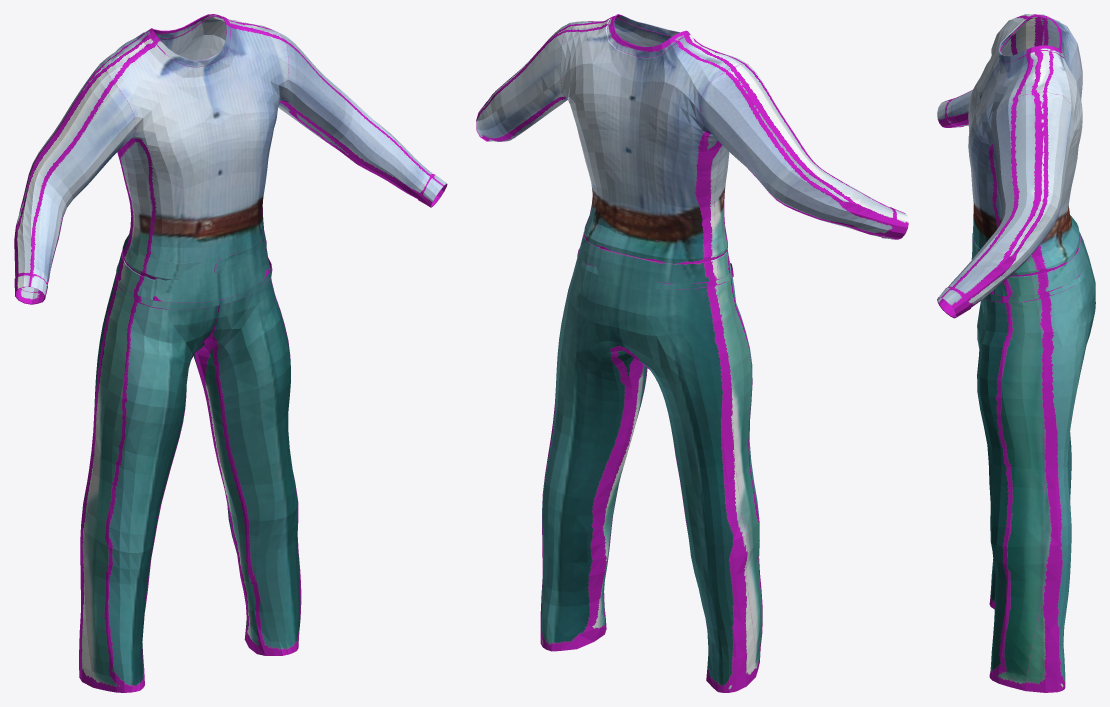
3 views of the same model, side by side, from view 1: azimuth 30°, elevation 25°; view 2: azimuth 150°, elevation 25°; view 3: azimuth 270°, elevation 25° (orthographic). The views are drawn at different scales.
Bounding box in the file's own units: 0.6498 × 0.9182 × 0.214.
1 material, 1 textured.
